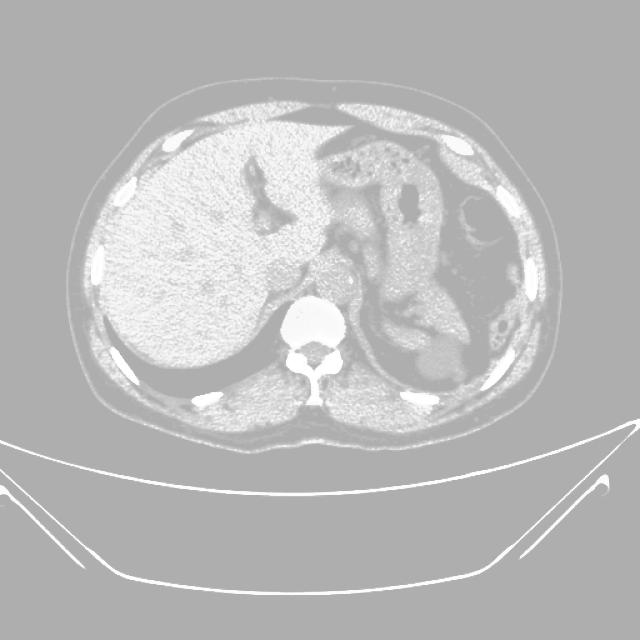cysts: (65, 83, 563, 455)
